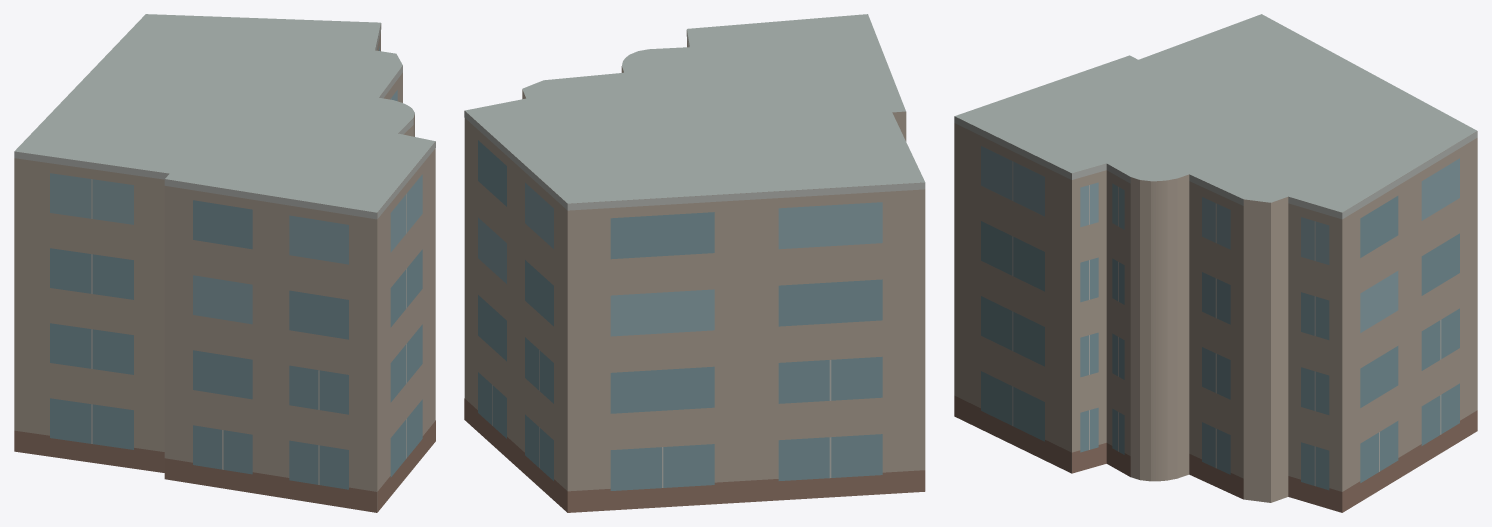
Rendered from survey-upis-32672284.glb.
3 renders of one model, left to right at view 1: azimuth 30°, elevation 25°; view 2: azimuth 150°, elevation 25°; view 3: azimuth 270°, elevation 25°, orthographic. The views are drawn at different scales.
Parts seen in each view (by area): view 1: survey-upis-32672284.tmp; view 2: survey-upis-32672284.tmp; view 3: survey-upis-32672284.tmp.
Boxes of the visible parts, x1,y1,x2,y2 form: survey-upis-32672284.tmp: (14,14,435,512); survey-upis-32672284.tmp: (464,14,925,512); survey-upis-32672284.tmp: (954,14,1477,512).
Size of the model in its own units: 15.41 by 10.85 by 17.14.
